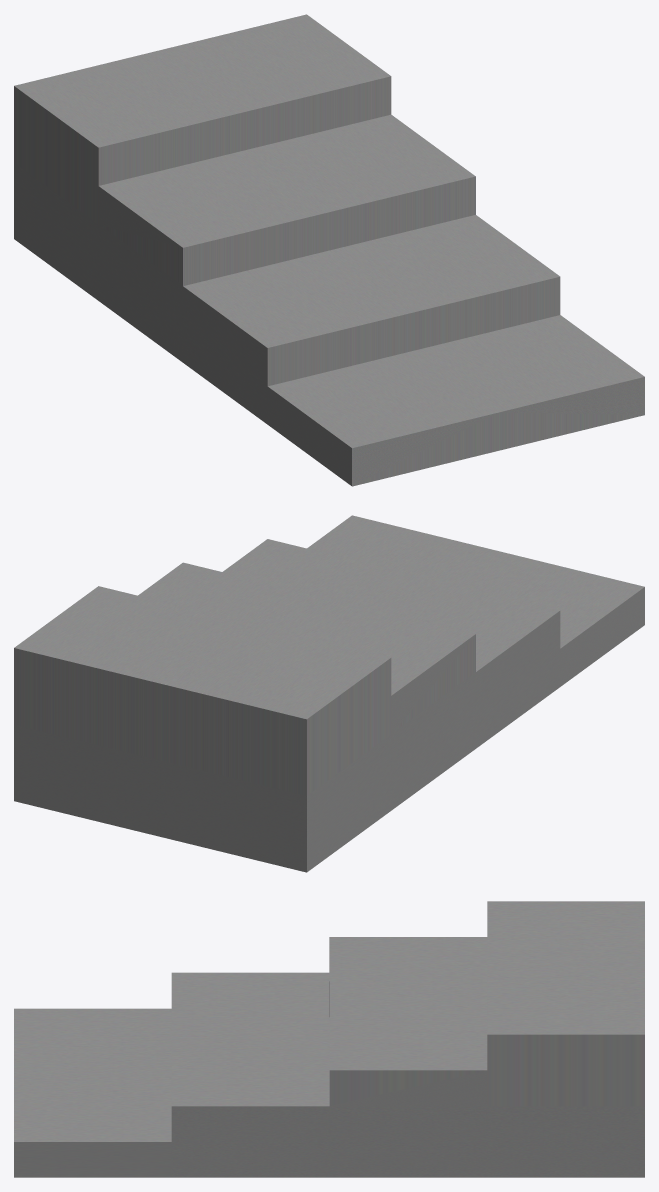
The model's file is kaidanBig.fbx.
3 views of the same model, one above another, from view 1: azimuth 30°, elevation 25°; view 2: azimuth 150°, elevation 25°; view 3: azimuth 270°, elevation 25° (orthographic). The views are drawn at different scales.
Parts seen in each view (by area): view 1: kaidanBig; view 2: kaidanBig; view 3: kaidanBig.
Part boxes in pixels (<box>): kaidanBig: <box>14,14,644,486</box>; kaidanBig: <box>14,515,644,872</box>; kaidanBig: <box>14,901,644,1177</box>.
Size of the model in its own units: 500 by 1000 by 250.
1 material, 1 textured.
